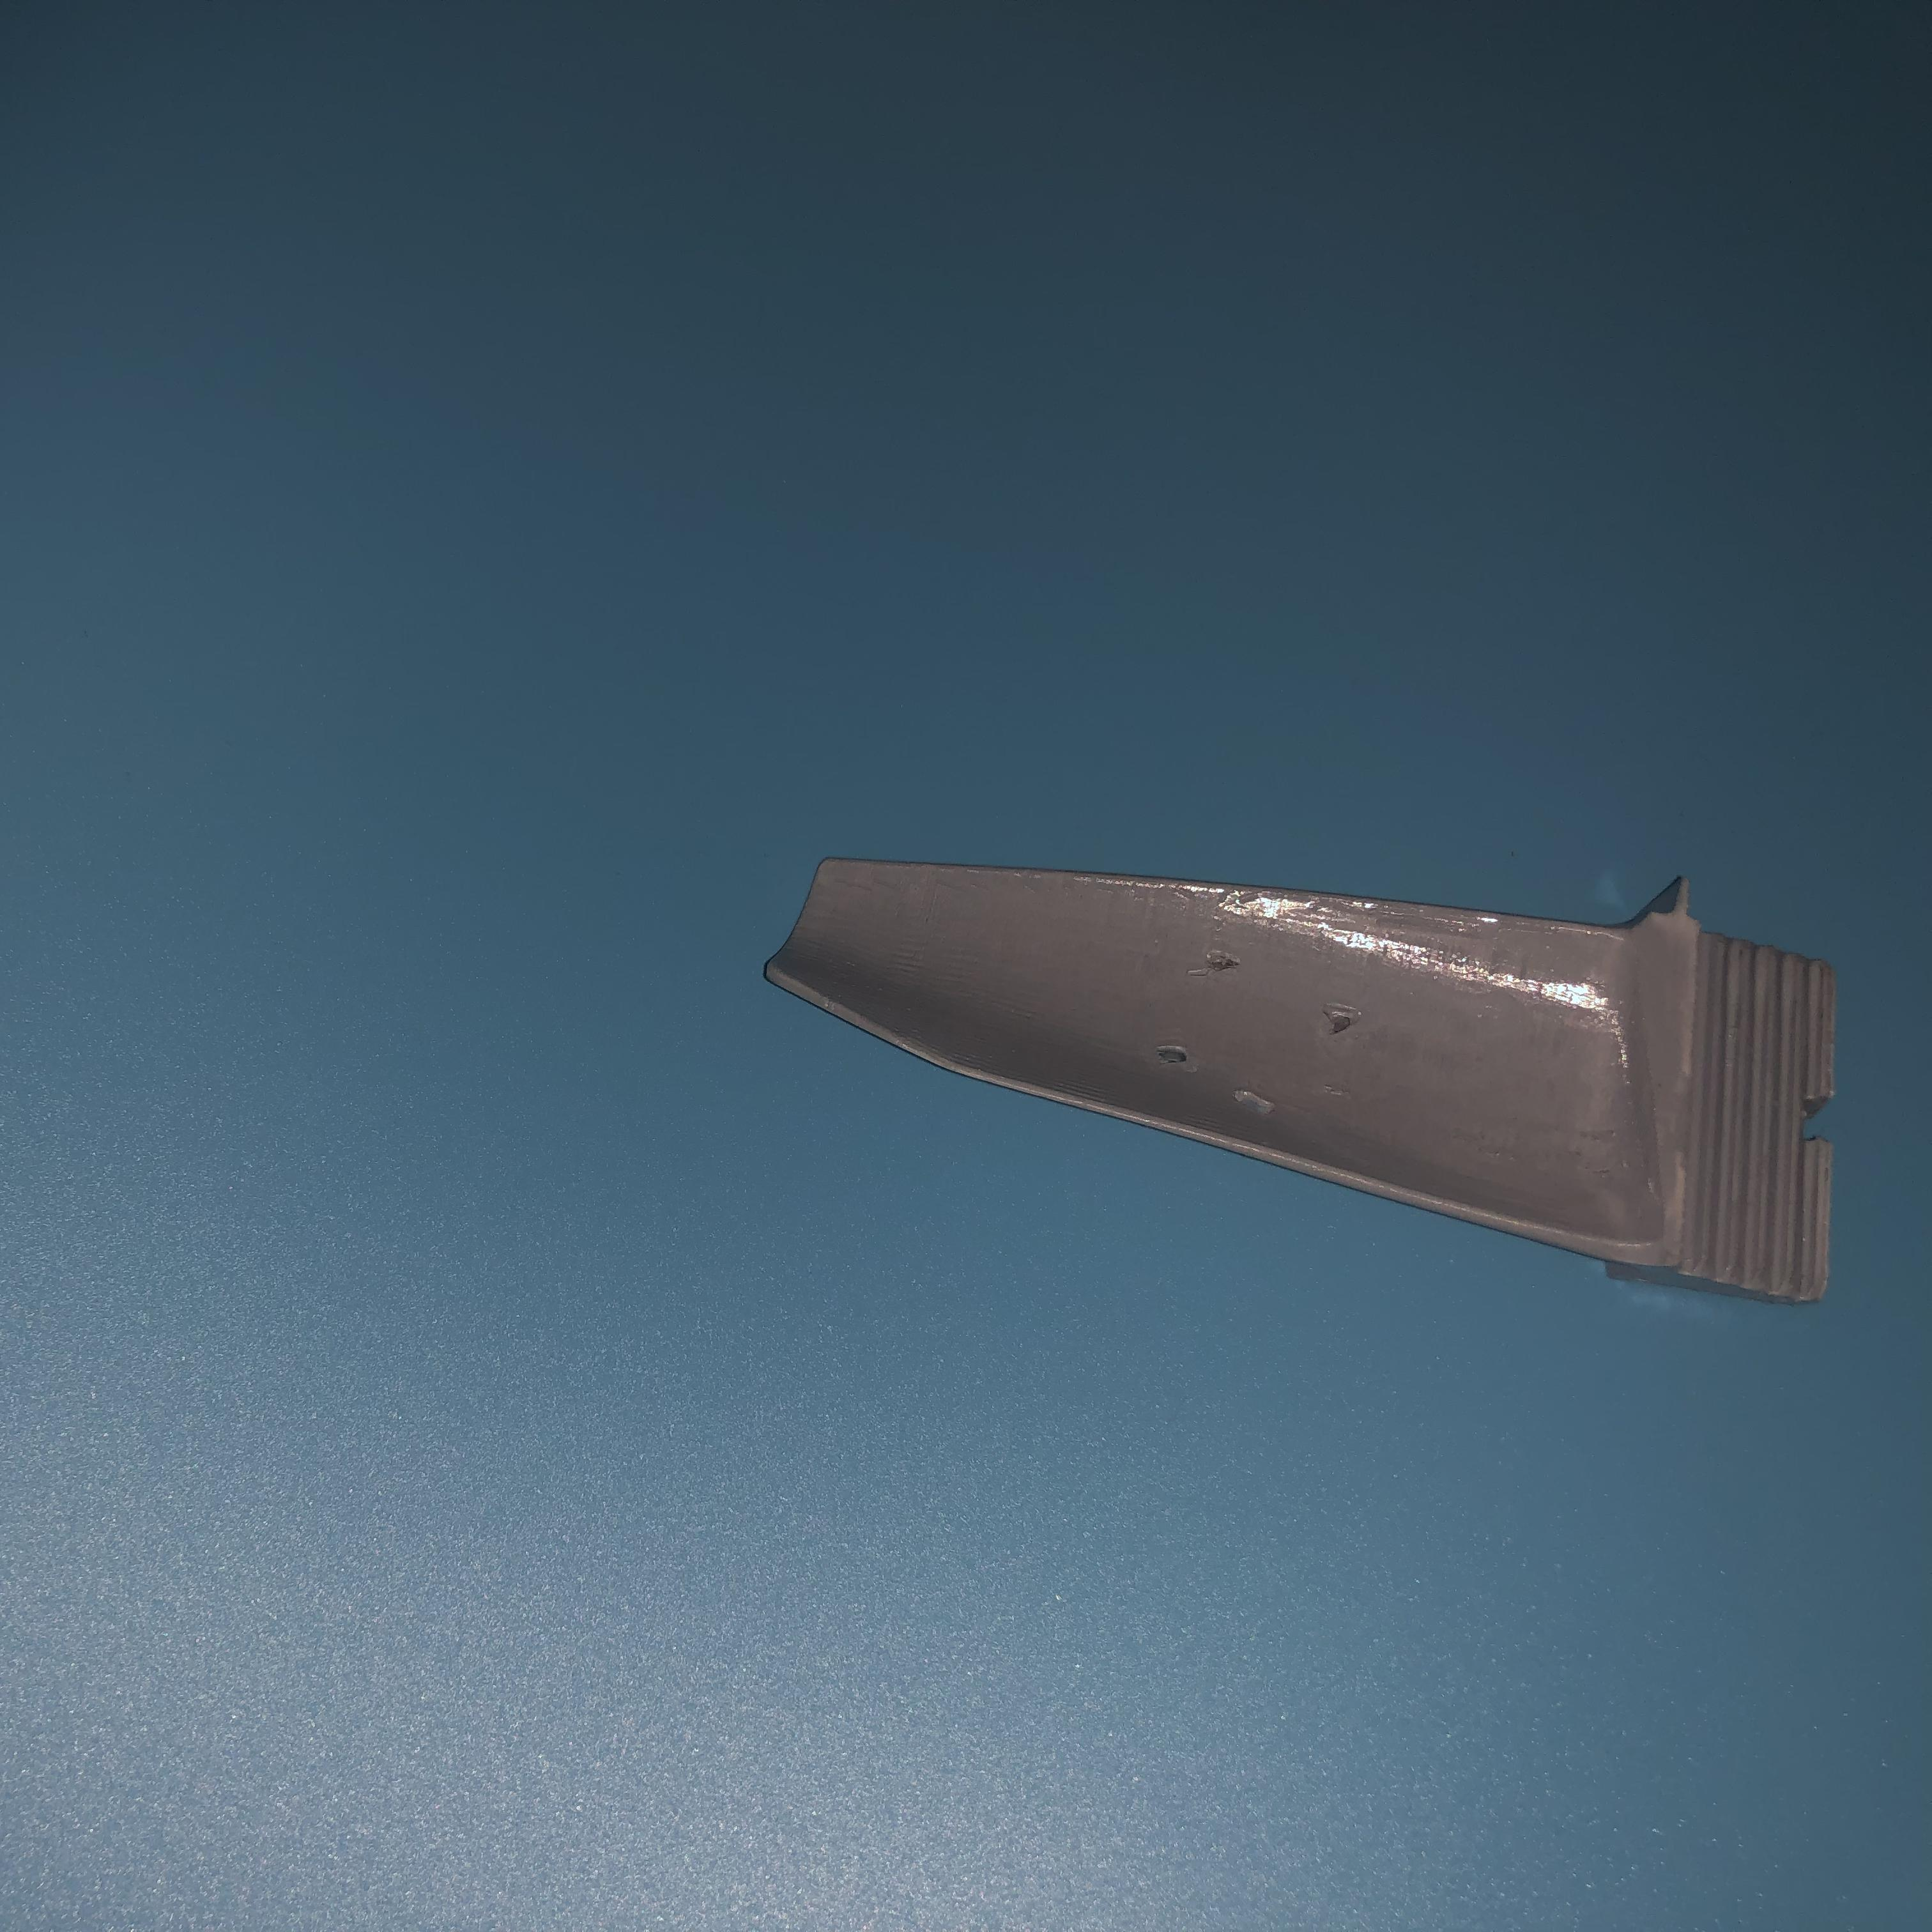breakdown: (1162, 948, 1362, 1115)
